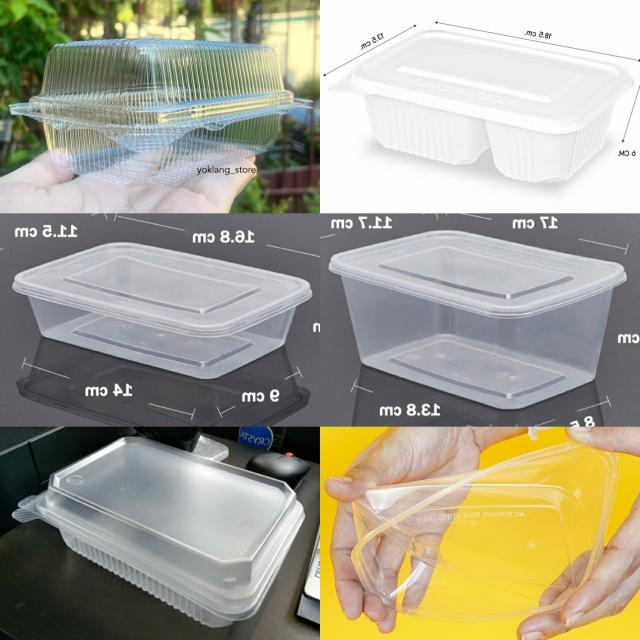Single-Use-Plastic: (15, 438, 304, 628), (329, 230, 627, 409), (352, 441, 618, 621), (330, 30, 633, 182), (10, 39, 309, 185), (13, 242, 311, 379)
